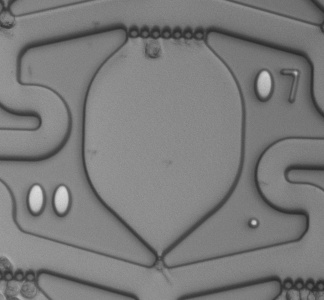AptNum: (249, 61, 309, 109)
Marker: (243, 212, 265, 233)
StNum: (18, 174, 82, 225)
Trap: (131, 257, 188, 300)
